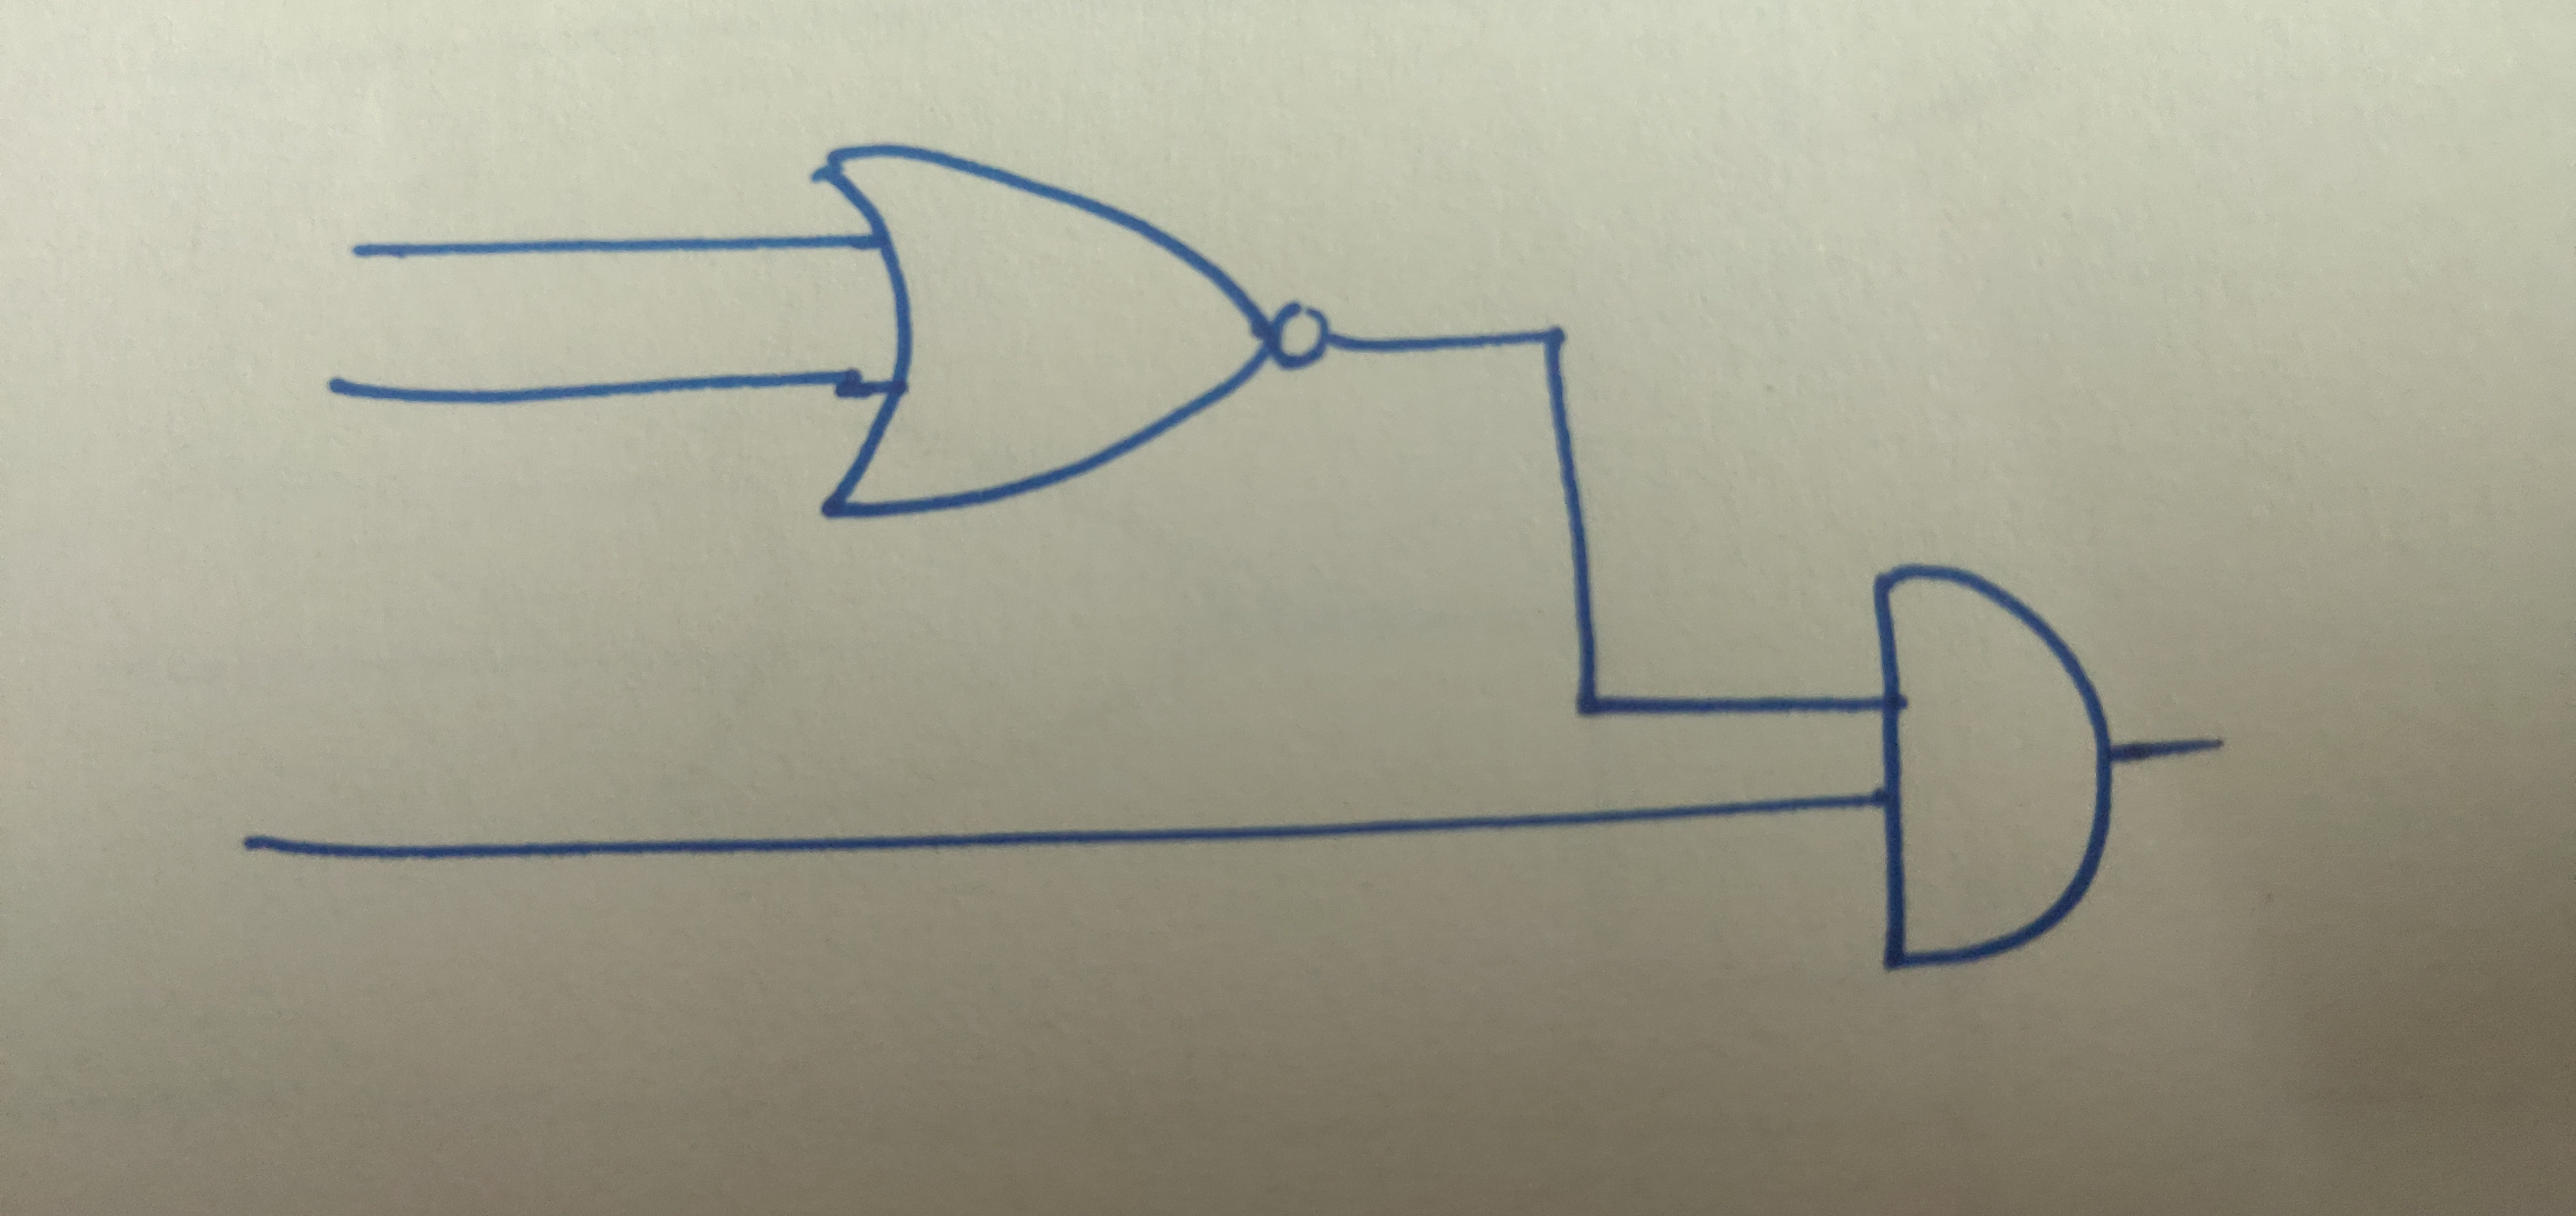and: (1866, 555, 2119, 976)
not: (1268, 292, 1341, 378)
or: (808, 138, 1275, 523)
